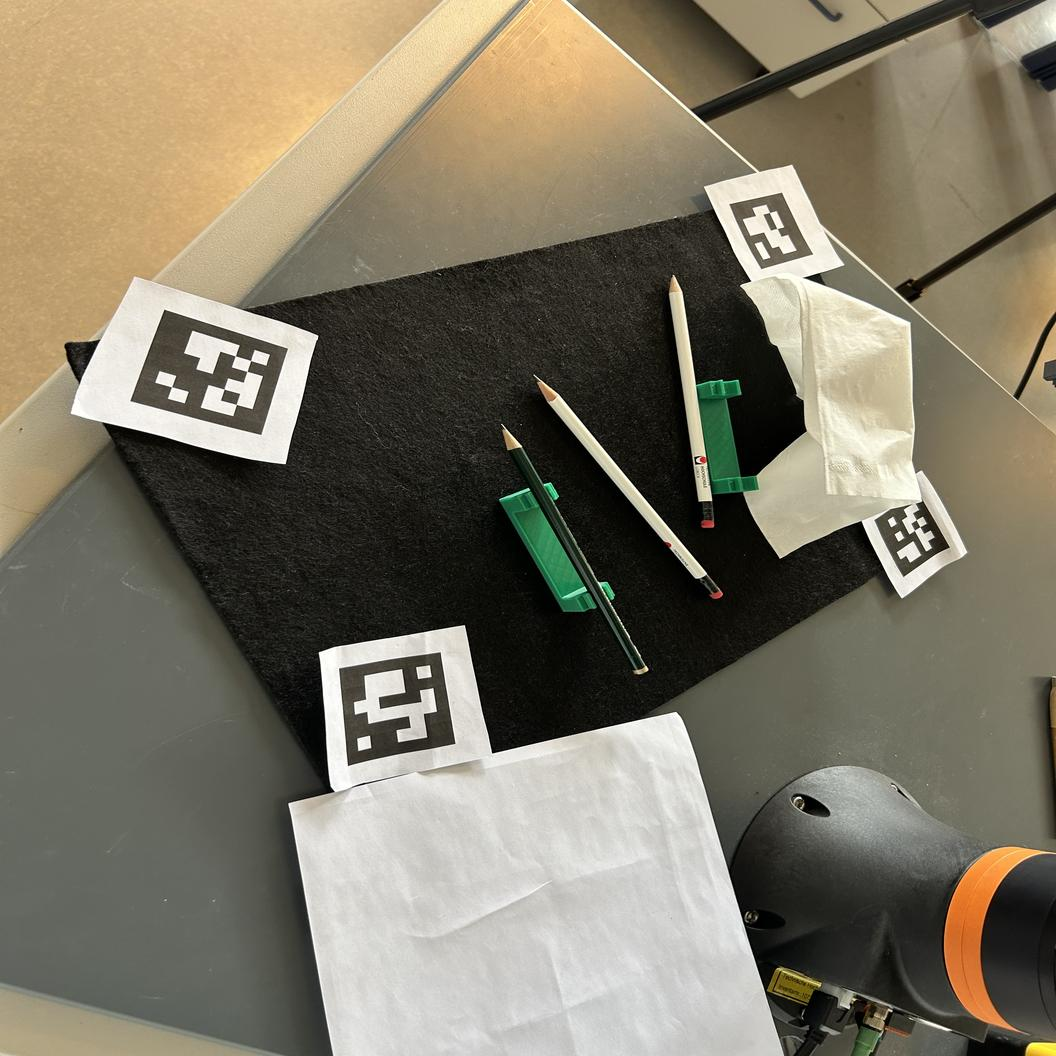X: (499, 422, 649, 675)
holder: (499, 480, 616, 613), (697, 377, 760, 495)
pencil: (532, 373, 723, 599), (499, 422, 649, 675), (669, 273, 715, 528)
